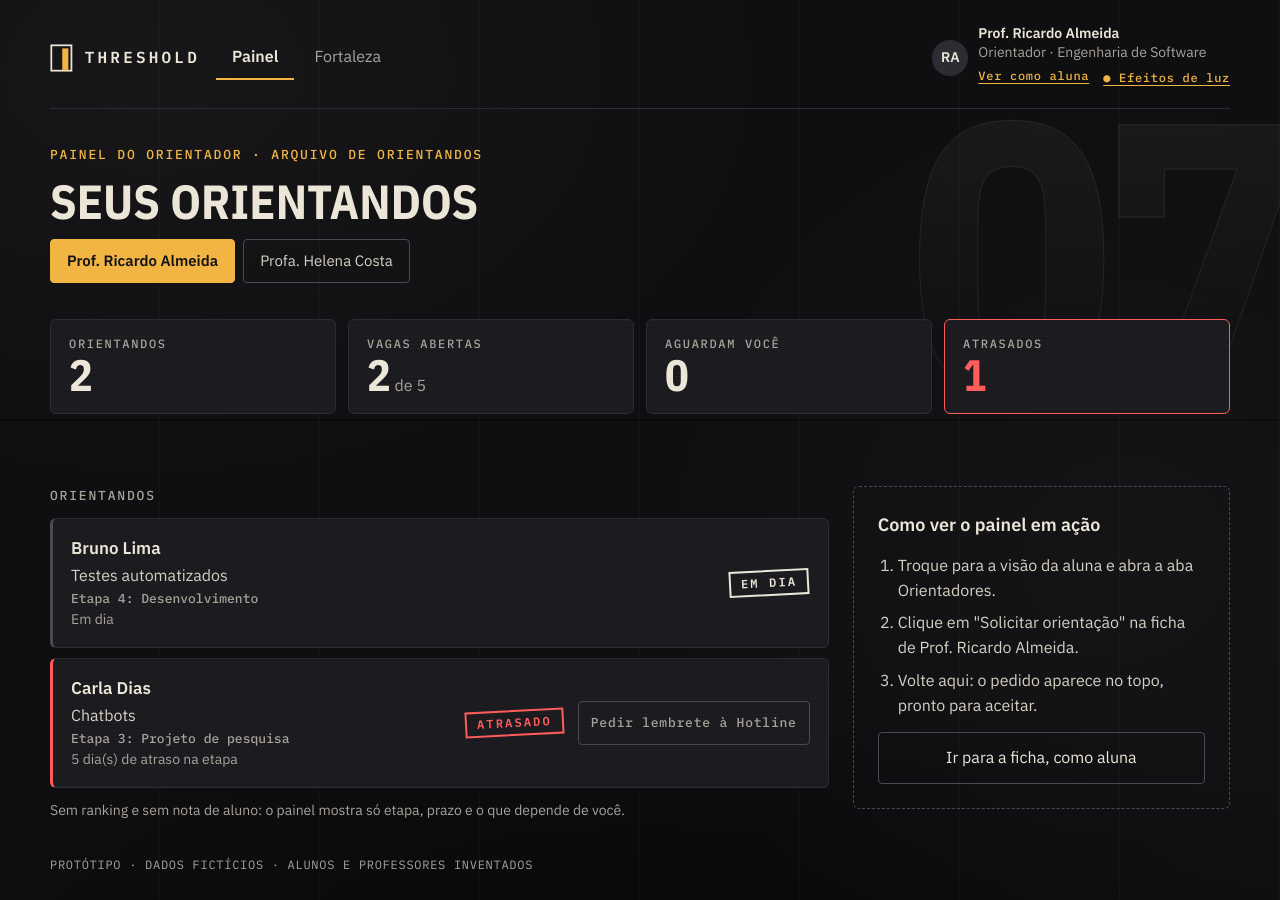
Test case: Painel do orientador › pedir lembrete à Hotline marca o orientando como avisado hoje
Click the button with aria-label "Pedir lembrete à Hotline para Carla Dias" at (694, 723), box [578, 701, 810, 745]
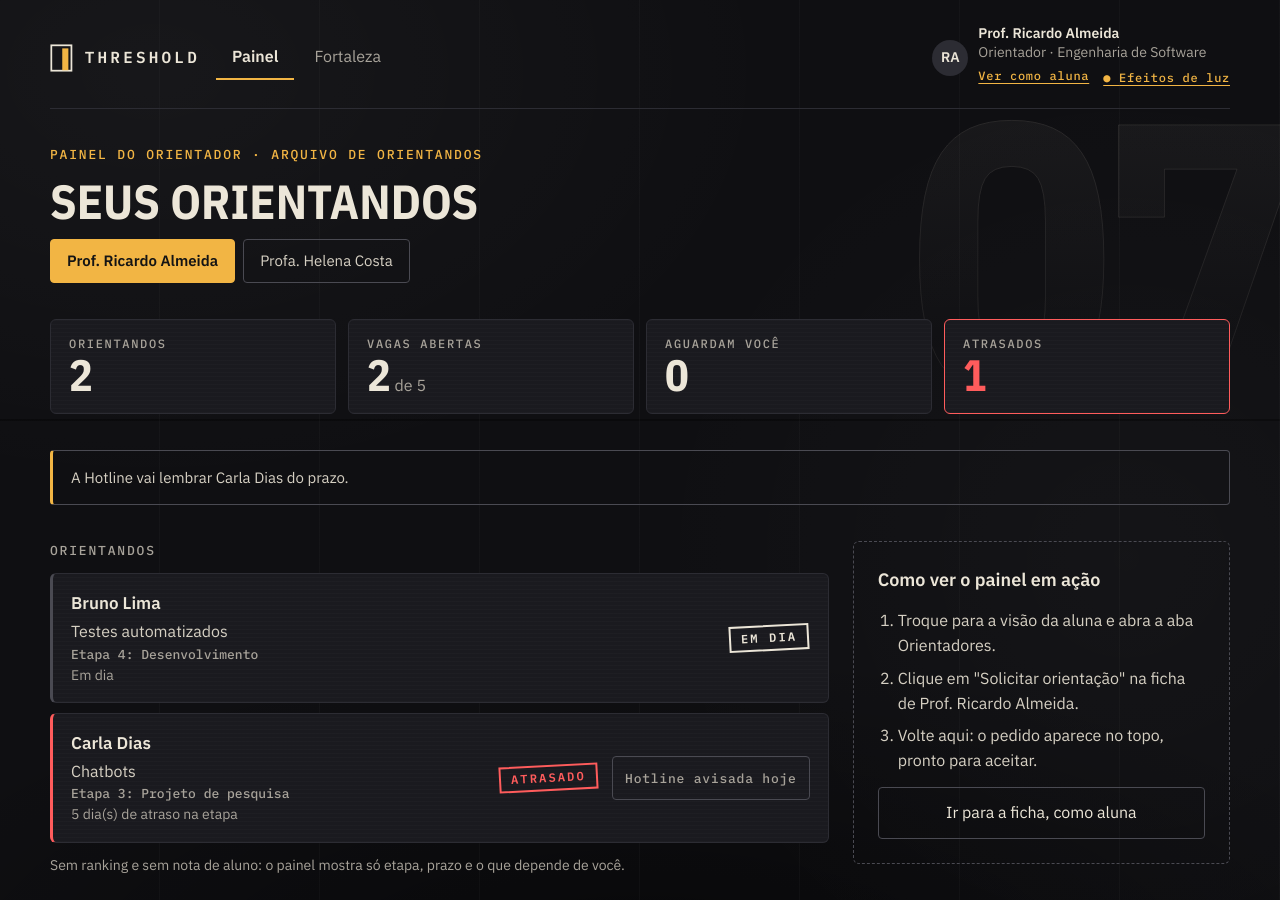
Now the button with aria-label "Hotline avisada hoje para Carla Dias" is disabled, box [612, 756, 810, 800]
